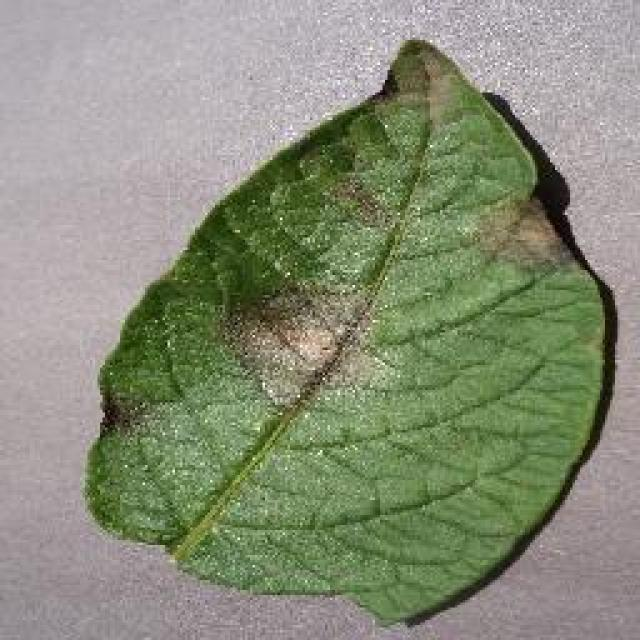late_blight: (78, 35, 620, 630)
